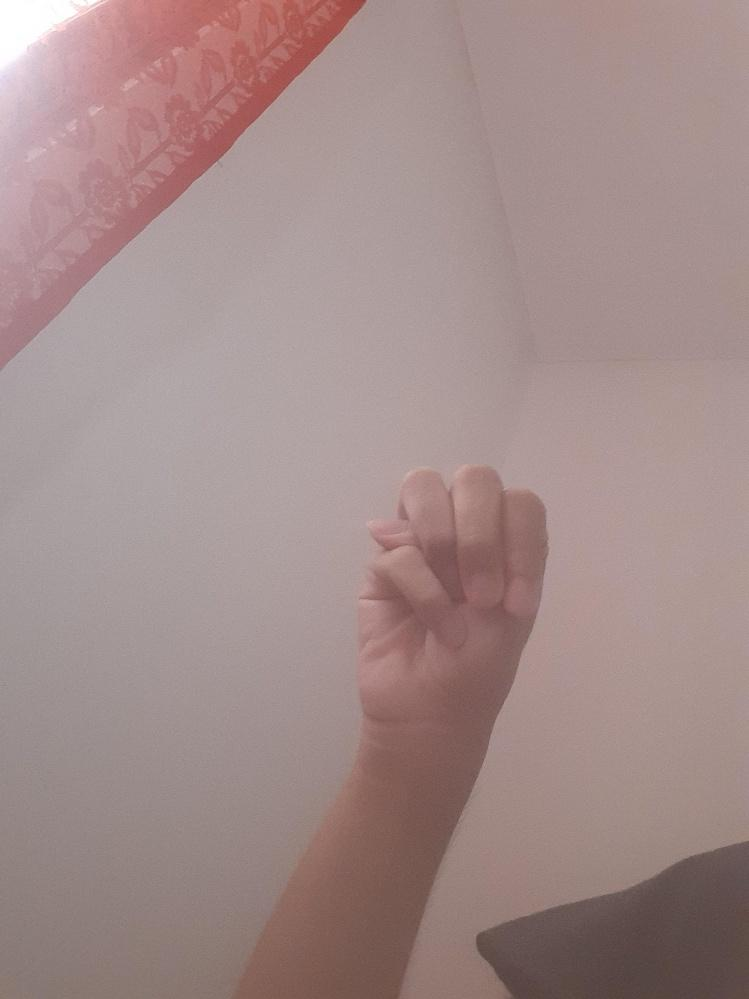m: (355, 461, 551, 715)
